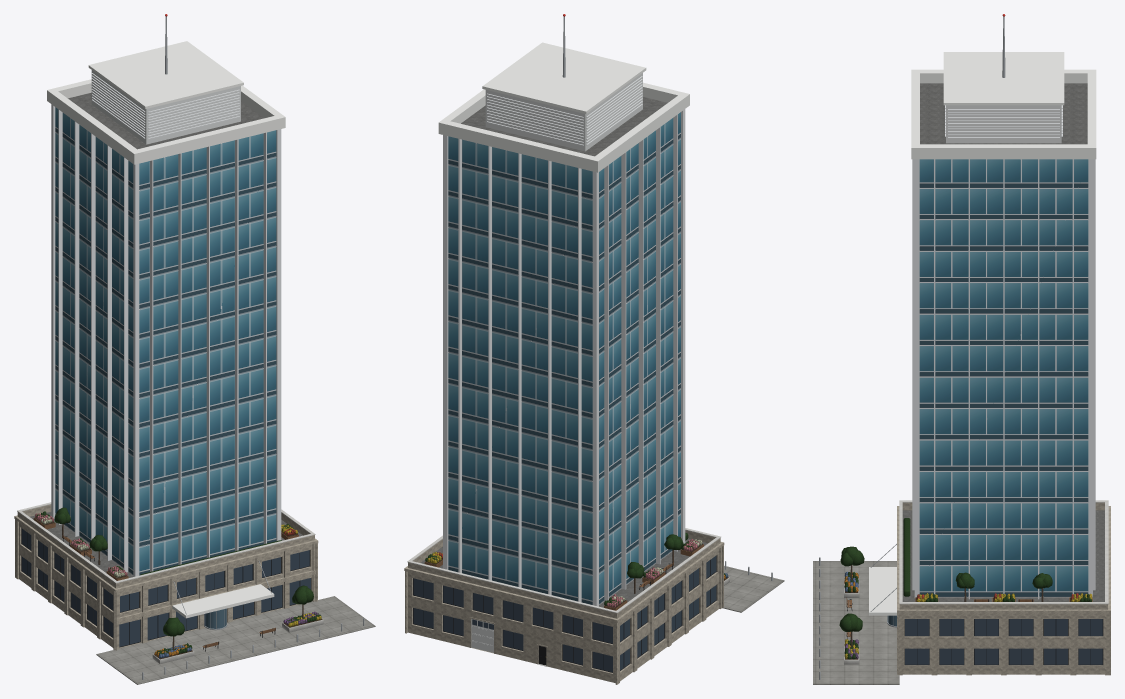
Rendered from office-tower.glb.
3 renders of one model, left to right at view 1: azimuth 30°, elevation 25°; view 2: azimuth 150°, elevation 25°; view 3: azimuth 270°, elevation 25°, orthographic. The views are drawn at different scales.
Parts seen in each view (by area): view 1: Office_Tower; view 2: Office_Tower; view 3: Office_Tower.
Part boxes in pixels (<box>): Office_Tower: <box>14,14,375,684</box>; Office_Tower: <box>404,14,784,684</box>; Office_Tower: <box>813,14,1110,684</box>.
Bounding box in the file's own units: 30.2 × 69.74 × 30.9.
28 materials, 17 textured.
